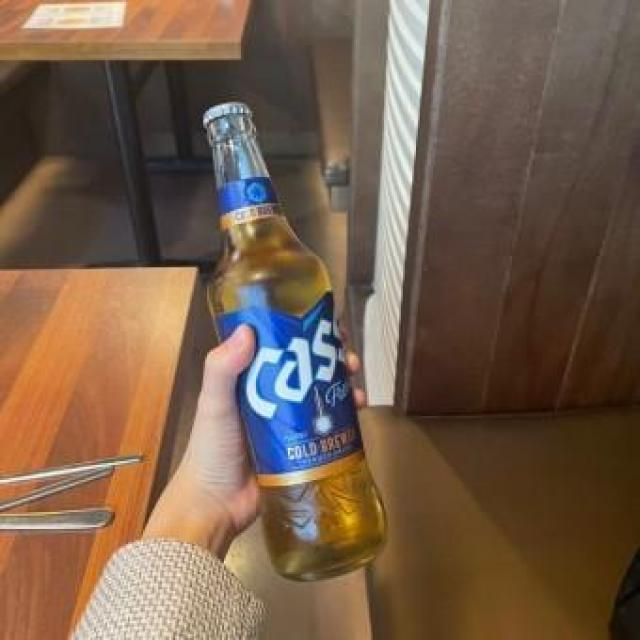beer-bottle: (193, 94, 385, 602)
